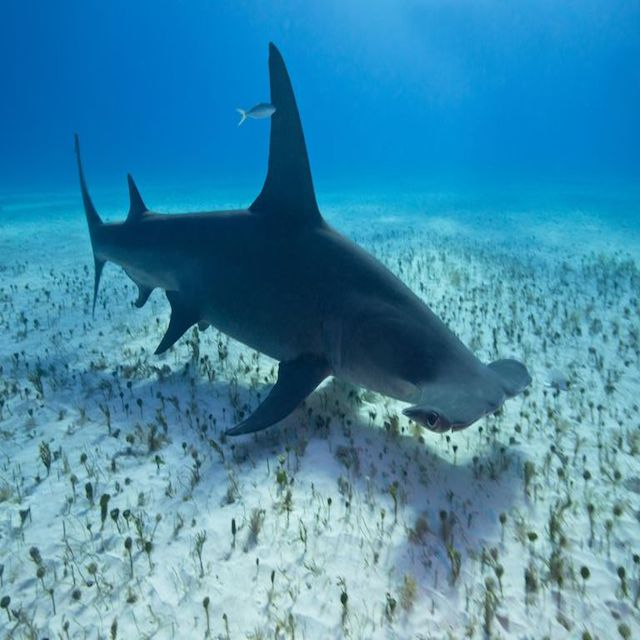hammerhead: (218, 216, 576, 465)
